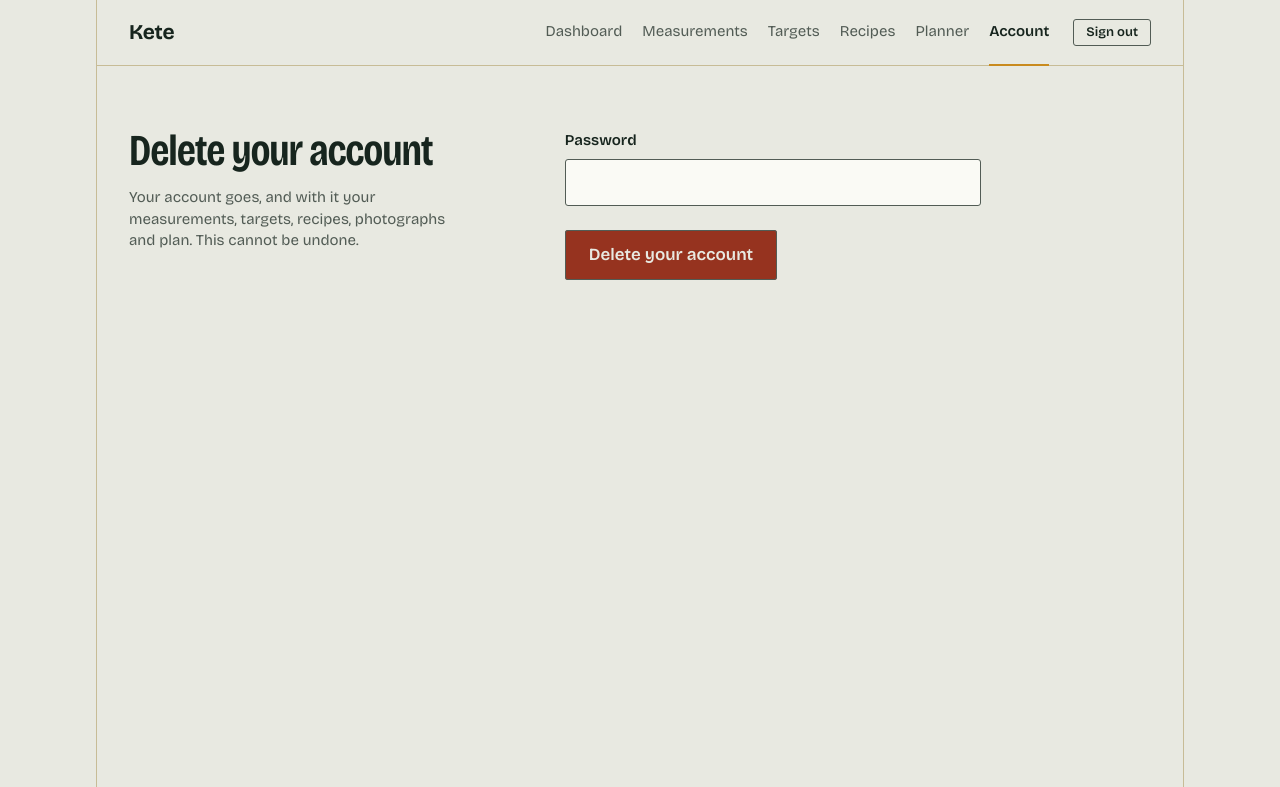
Test case: deleting the account › sends the password, clears the token and lands on the home page
The width and height of the screenshot is (1280, 787).
In the password field labelled "Password": coordinates (773, 182) x1=565 y1=159 x2=981 y2=206, type "kumara-42"
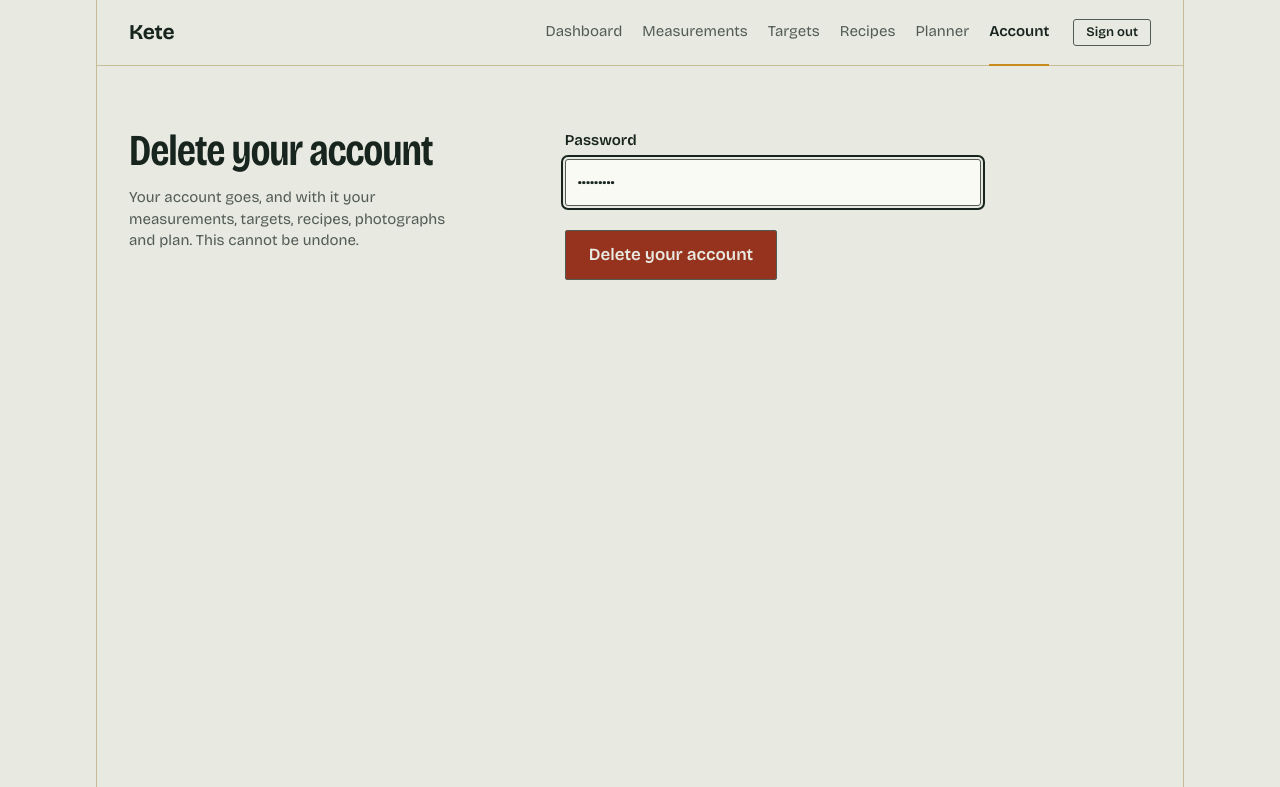
Click the button "Delete your account": coordinates (671, 255) x1=565 y1=230 x2=777 y2=280
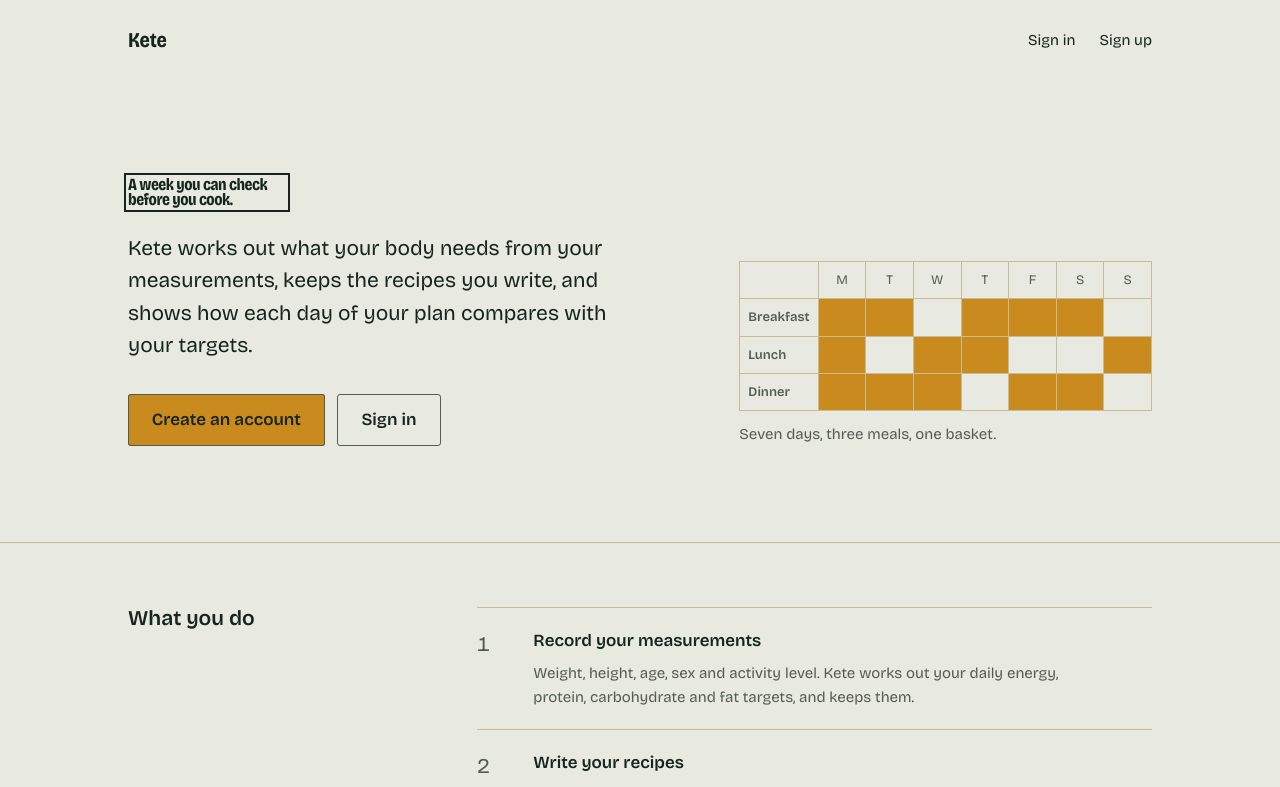
Expected: the heading "A week you can check before you cook." is shown, x1=128 y1=176 x2=286 y2=208
